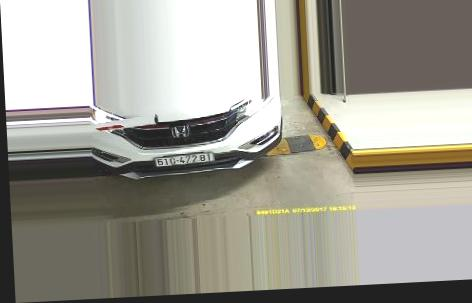License_Plate: (156, 150, 218, 167)
